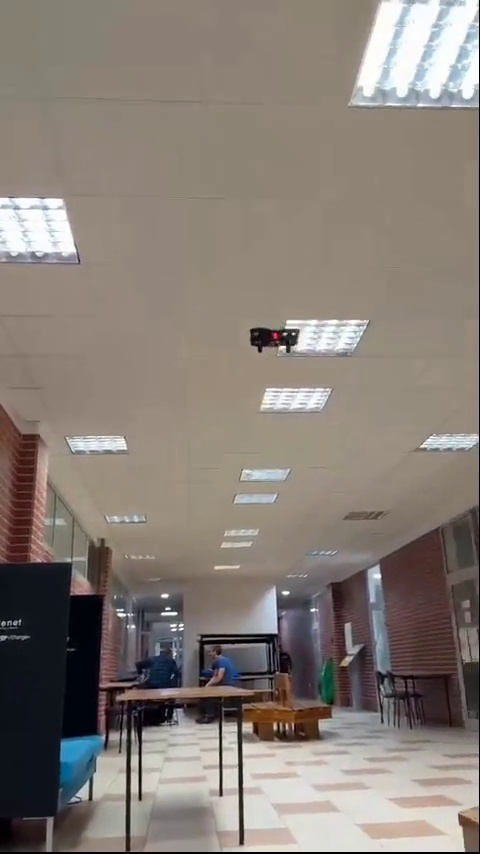drone: (251, 326, 299, 353)
no vest: (200, 644, 237, 689), (146, 646, 183, 688)
